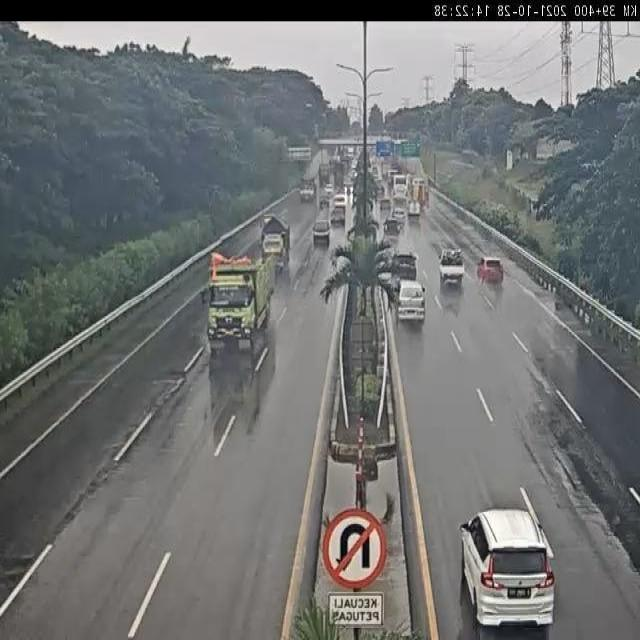Car: (459, 494, 561, 627), (396, 282, 426, 324), (438, 249, 464, 285), (477, 256, 502, 282)
Truck: (205, 246, 266, 368), (256, 205, 291, 292)
